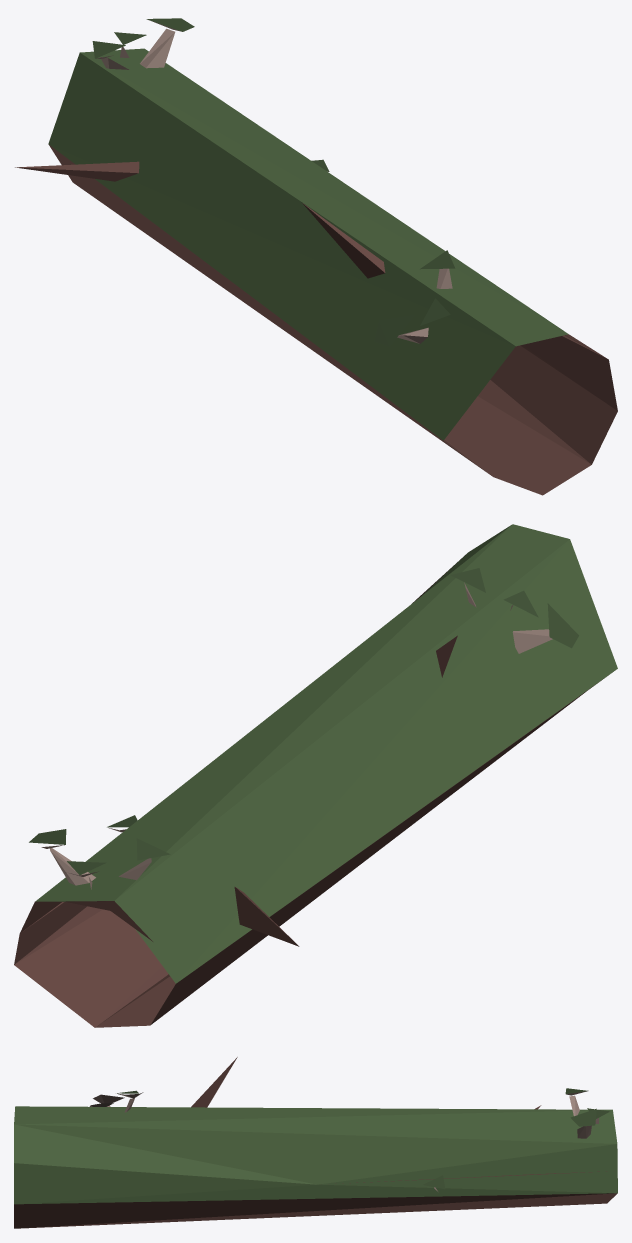
The model's file is qn_log.glb.
The picture shows the model from 3 angles, top to bottom: view 1: azimuth 30°, elevation 25°; view 2: azimuth 150°, elevation 25°; view 3: azimuth 270°, elevation 25°; orthographic projection. The views are drawn at different scales.
Visible parts, largest first — view 1: qn_log; view 2: qn_log; view 3: qn_log.
Part boxes in pixels (x1,y1,x2,y2): qn_log: [15, 18, 617, 495]; qn_log: [14, 524, 617, 1027]; qn_log: [14, 1057, 617, 1228].
Bounding box in the file's own units: 0.8877 × 0.6831 × 2.67.
